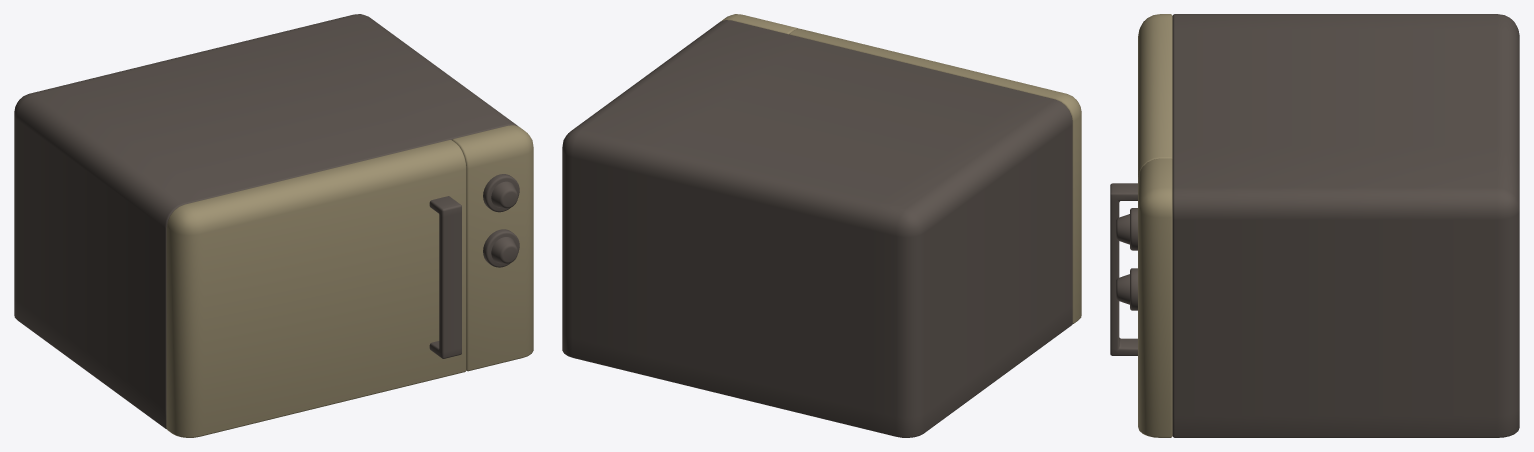
File: mikrofala.fbx
The picture shows the model from 3 angles, left to right: view 1: azimuth 30°, elevation 25°; view 2: azimuth 150°, elevation 25°; view 3: azimuth 270°, elevation 25°; orthographic projection. The views are drawn at different scales.
Parts seen in each view (by area): view 1: Cube, Cube_slice; view 2: Cube, Cube_slice; view 3: Cube, Cube_slice.
Boxes of the visible parts, x1,y1,x2,y2 form: Cube: (14, 14, 533, 429); Cube_slice: (166, 139, 466, 437); Cube: (562, 14, 1072, 437); Cube_slice: (789, 28, 1081, 323); Cube: (1116, 14, 1519, 437); Cube_slice: (1110, 14, 1172, 355).
Size of the model in its own units: 99.08 by 58.46 by 89.85.
